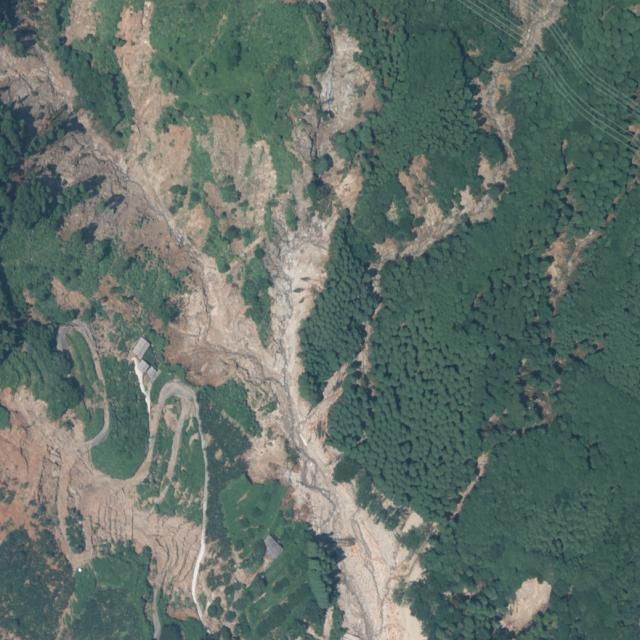landslide: (0, 2, 424, 639), (0, 388, 199, 591), (475, 0, 567, 189), (490, 0, 569, 97), (399, 154, 461, 257), (501, 579, 553, 636), (399, 153, 430, 218)
